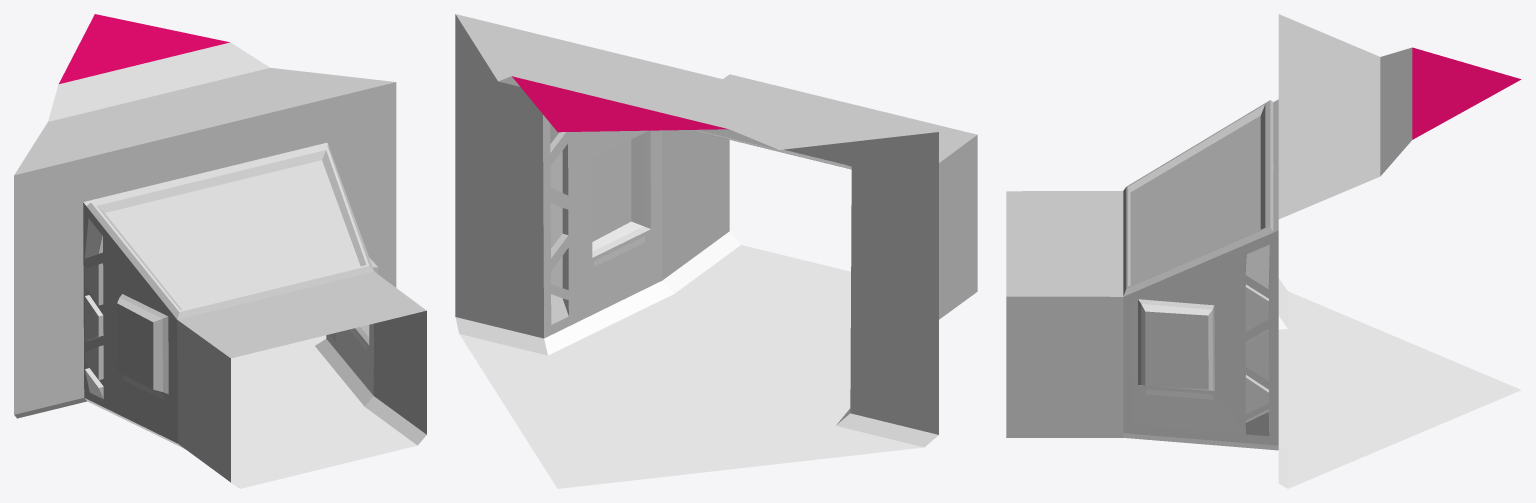
Rendered from cave_corridor_new14.glb.
3 renders of one model, left to right at view 1: azimuth 30°, elevation 25°; view 2: azimuth 150°, elevation 25°; view 3: azimuth 270°, elevation 25°, orthographic. The views are drawn at different scales.
Parts seen in each view (by area): view 1: exhibition corridor; view 2: exhibition corridor; view 3: exhibition corridor.
Part boxes in pixels (left/top/right/bottom): exhibition corridor: left=14, top=14, right=426, bottom=488; exhibition corridor: left=455, top=14, right=977, bottom=488; exhibition corridor: left=1006, top=14, right=1521, bottom=488.
Size of the model in its own units: 22.04 by 15.54 by 23.37.
